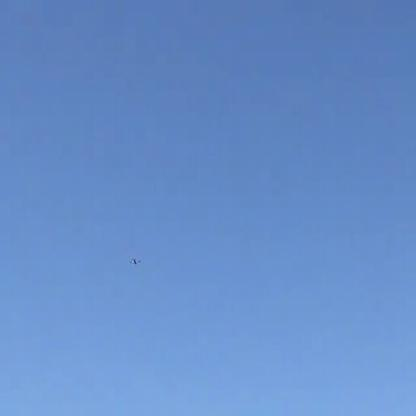CIV_Plane: (130, 259, 140, 266)
